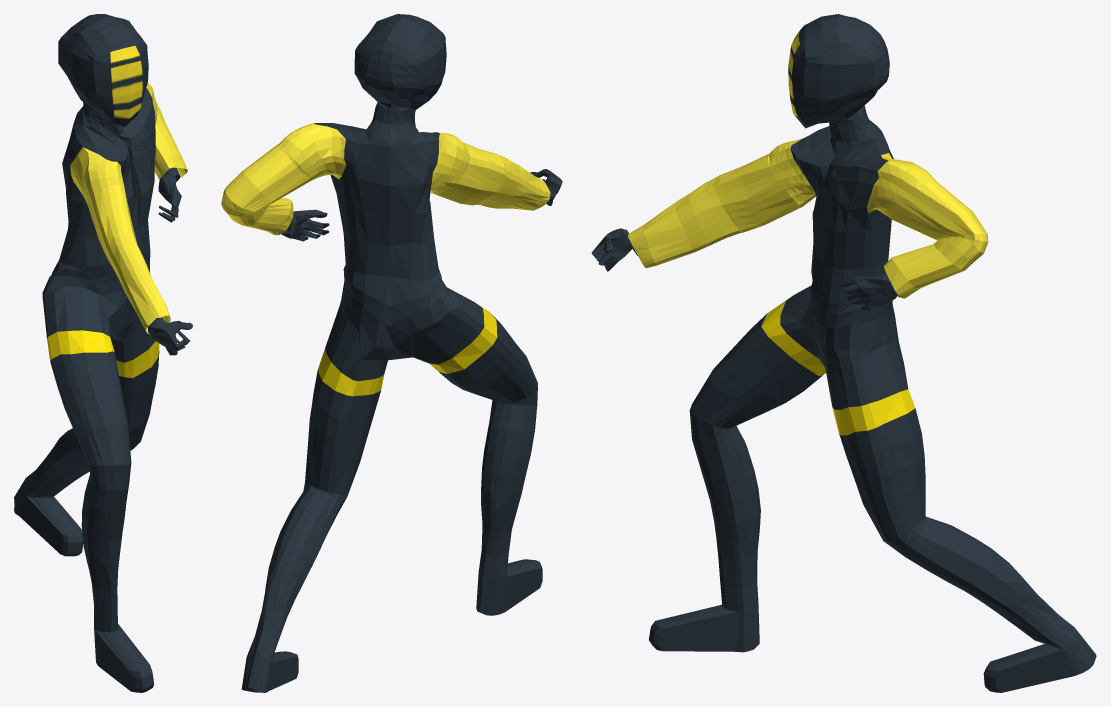
File: Sentry_WL_000002.obj
3 renders of one model, left to right at view 1: azimuth 30°, elevation 25°; view 2: azimuth 150°, elevation 25°; view 3: azimuth 270°, elevation 25°, orthographic. The views are drawn at different scales.
Visible parts, largest first — view 1: Cube; view 2: Cube; view 3: Cube.
Part boxes in pixels (x1,y1,x2,y2): Cube: (14,14,192,692); Cube: (221,14,562,692); Cube: (591,14,1096,692).
Bounding box in the file's own units: 1.18 × 3.6 × 2.52.
